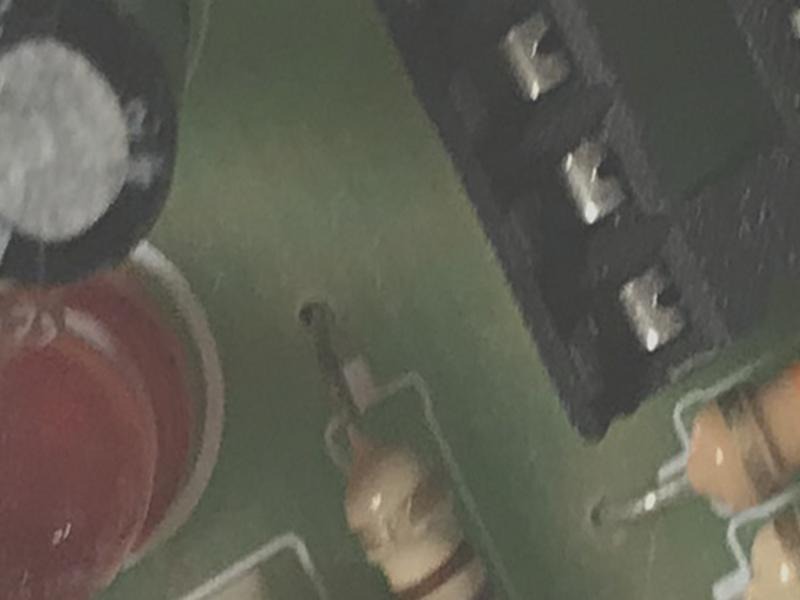Capacitor: (1, 1, 198, 294)
LED: (2, 264, 212, 600)
Resistor: (315, 375, 518, 600), (647, 343, 800, 523)
